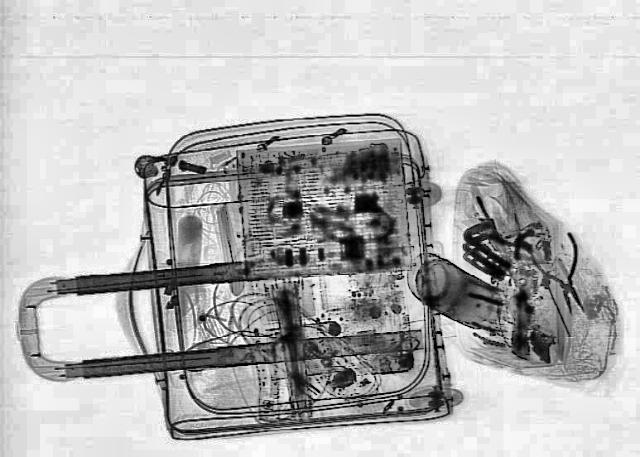Pliers: (522, 230, 606, 316)
